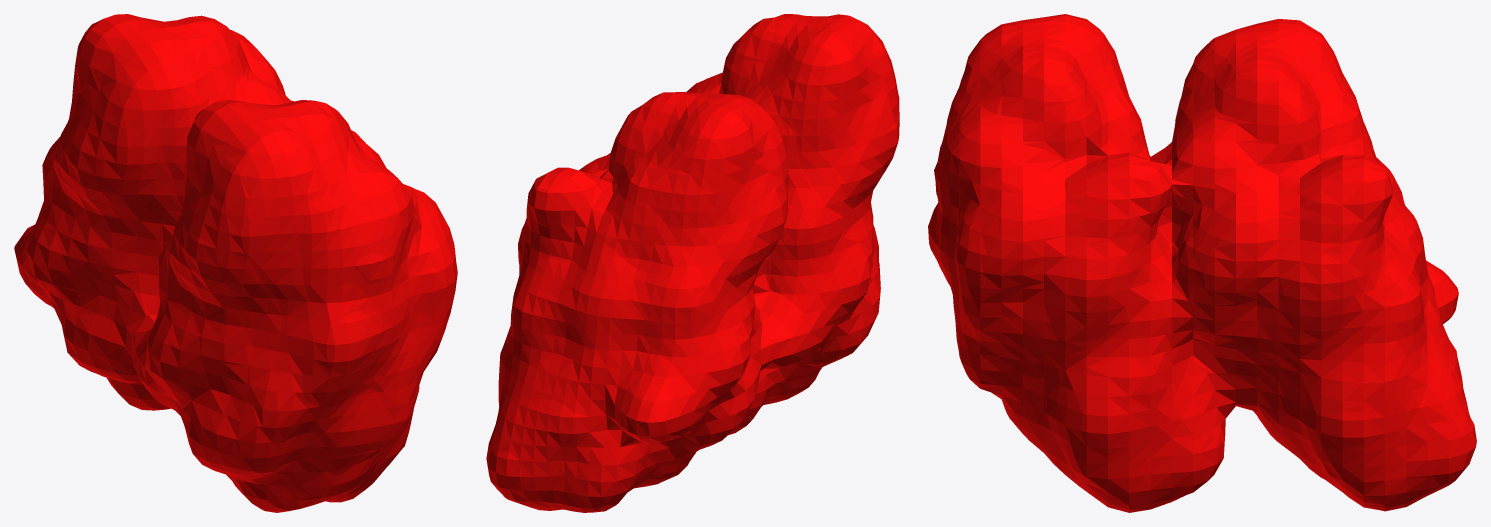
File: osmC_coarse.dae
3 renders of one model, left to right at view 1: azimuth 30°, elevation 25°; view 2: azimuth 150°, elevation 25°; view 3: azimuth 270°, elevation 25°, orthographic. The views are drawn at different scales.
Visible parts, largest first — view 1: osmC; view 2: osmC; view 3: osmC.
Part boxes in pixels (bbox=[...]): osmC: bbox=[14, 14, 457, 512]; osmC: bbox=[486, 14, 899, 512]; osmC: bbox=[928, 14, 1476, 512].
Size of the model in its own units: 42.16 by 67.36 by 78.09.
